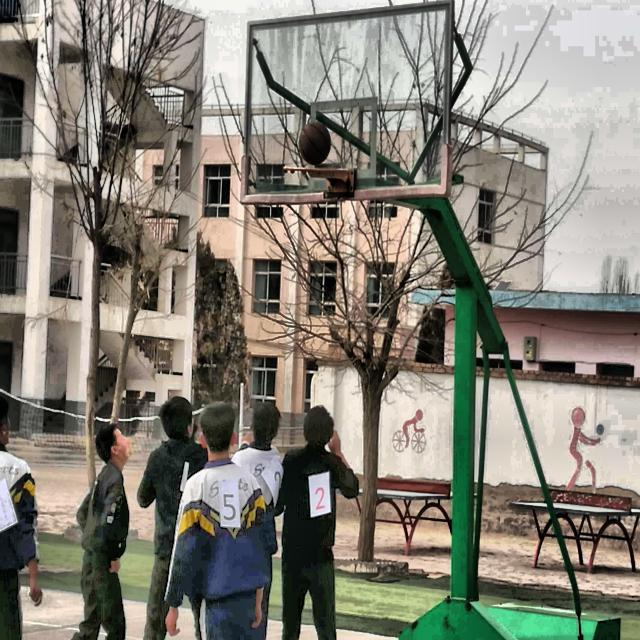board: (299, 122, 331, 166)
rim: (280, 160, 362, 201)
